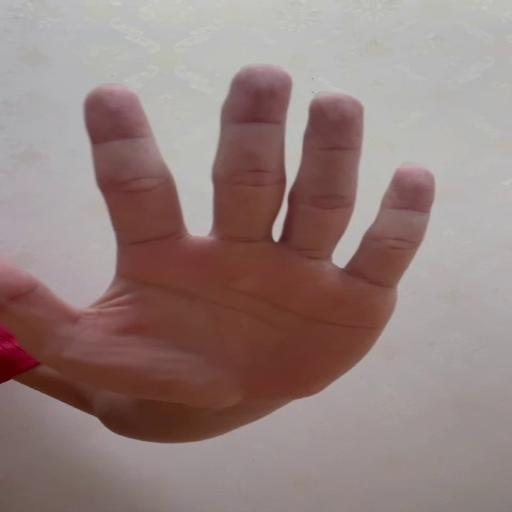open_palm: (0, 60, 437, 409)
